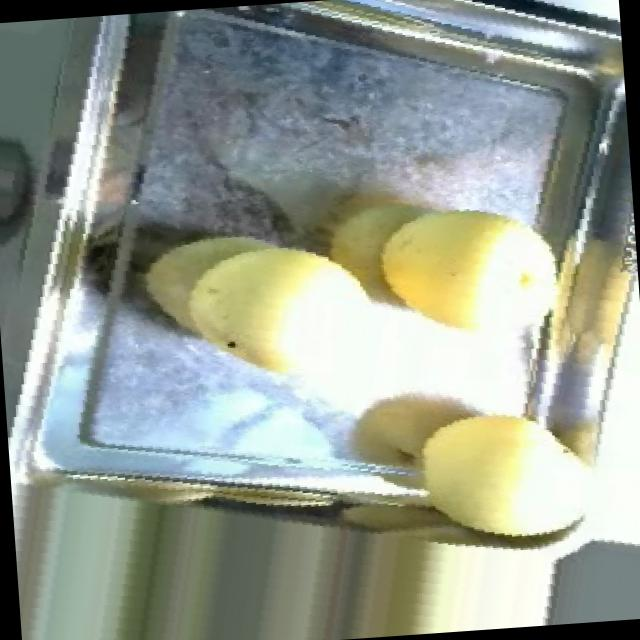Fruit: (116, 194, 387, 408), (387, 375, 607, 575), (352, 172, 560, 365)
